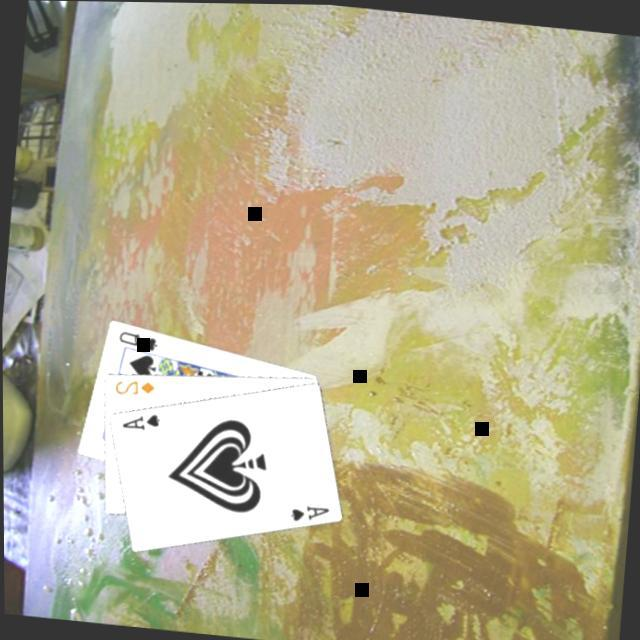2D: (107, 372, 155, 398)
AS: (115, 404, 161, 434), (283, 496, 329, 526)
QS: (111, 325, 159, 352)
